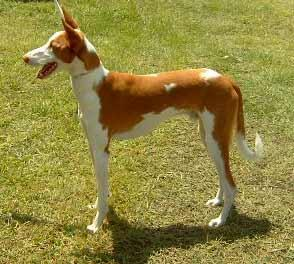Ibizan_hound: (21, 1, 264, 232)
